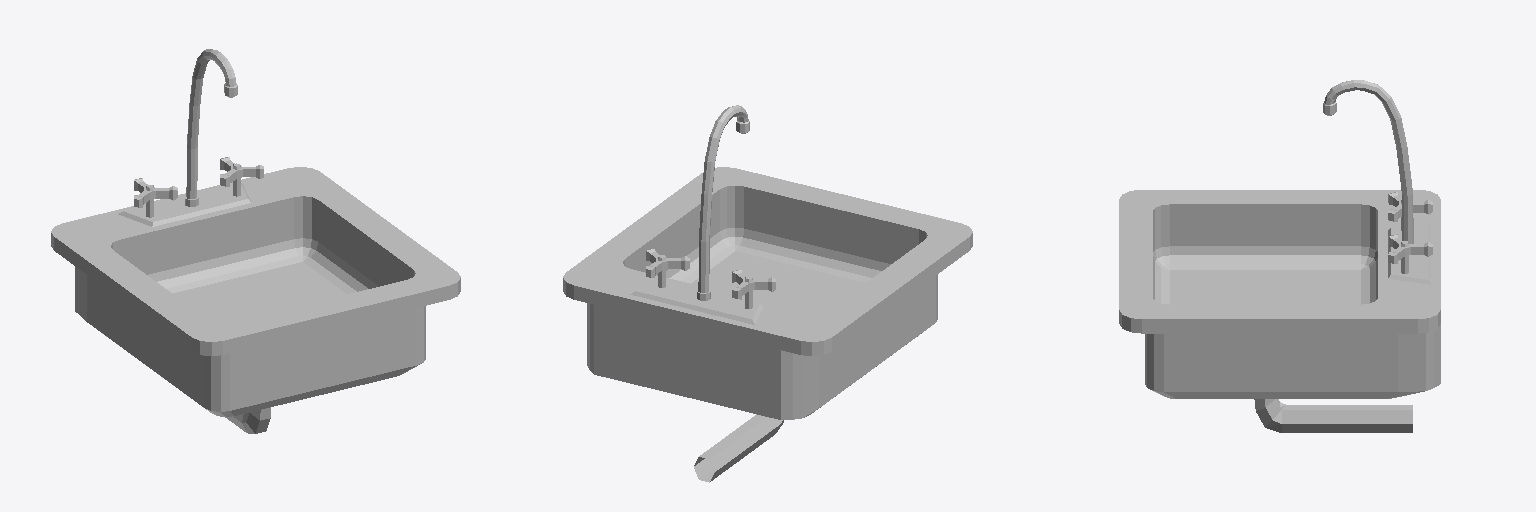
Rendered from Sink_UV.obj.
3 views of the same model, side by side, from view 1: azimuth 30°, elevation 25°; view 2: azimuth 150°, elevation 25°; view 3: azimuth 270°, elevation 25° (orthographic).
Visible parts, largest first — view 1: ChamferBox001; view 2: ChamferBox001; view 3: ChamferBox001.
Part boxes in pixels (left/top/right/bottom): ChamferBox001: left=51, top=49, right=460, bottom=433; ChamferBox001: left=563, top=105, right=972, bottom=482; ChamferBox001: left=1119, top=80, right=1440, bottom=432.
Size of the model in its own units: 53.62 by 67.78 by 56.1.